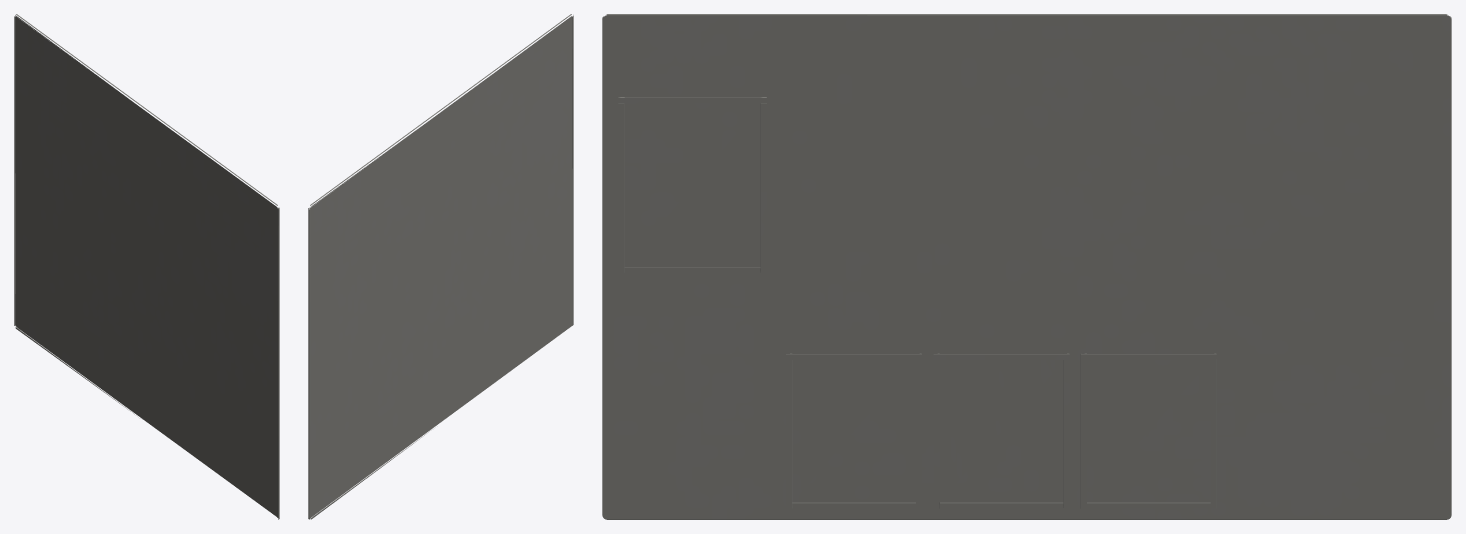
Rendered from safetyBoard_hseInformation_a01.glb.
3 renders of one model, left to right at view 1: azimuth 30°, elevation 25°; view 2: azimuth 150°, elevation 25°; view 3: azimuth 270°, elevation 25°, orthographic. The views are drawn at different scales.
Parts seen in each view (by area): view 1: geometry_0; view 2: geometry_0; view 3: geometry_0.
Boxes of the visible parts, left/top/right/bottom form: geometry_0: left=14, top=14, right=279, bottom=519; geometry_0: left=308, top=14, right=573, bottom=519; geometry_0: left=602, top=14, right=1451, bottom=519.
Size of the model in its own units: 0.00242 by 0.2756 by 0.42.
Materials: 1 (1 with a texture image).
